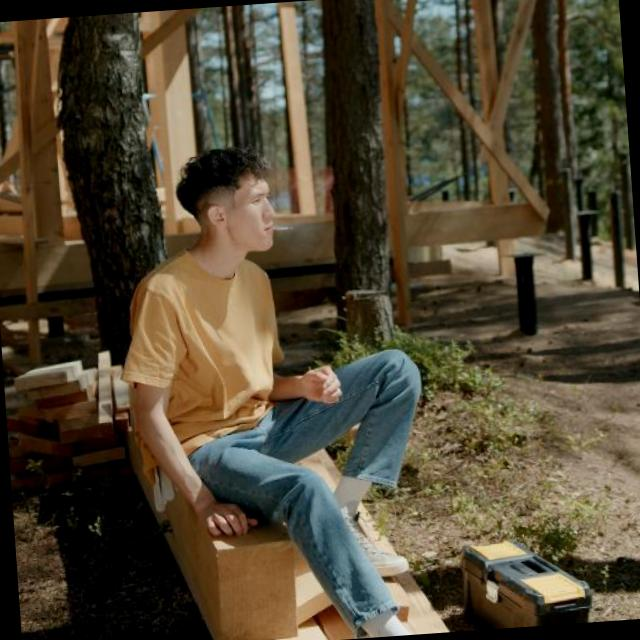cigarette: (253, 212, 298, 250)
